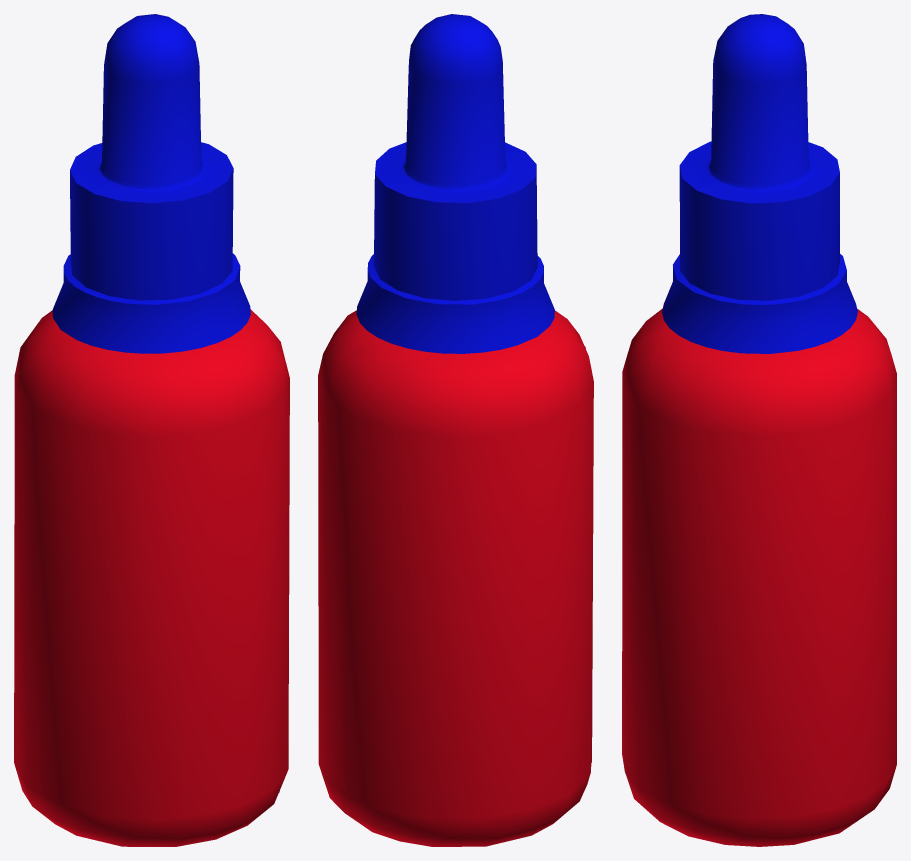
File: SM_BlessedOil_mesh_lod1.fbx
The picture shows the model from 3 angles, left to right: view 1: azimuth 30°, elevation 25°; view 2: azimuth 150°, elevation 25°; view 3: azimuth 270°, elevation 25°; orthographic projection.
Visible parts, largest first — view 1: lowbot.lod1, lowtop.lod1; view 2: lowbot.lod1, lowtop.lod1; view 3: lowbot.lod1, lowtop.lod1.
Part boxes in pixels (x1=…): lowbot.lod1: x1=14, y1=309, x2=289, y2=846; lowtop.lod1: x1=52, y1=14, x2=250, y2=353; lowbot.lod1: x1=318, y1=310, x2=593, y2=846; lowtop.lod1: x1=356, y1=14, x2=554, y2=353; lowbot.lod1: x1=622, y1=308, x2=896, y2=846; lowtop.lod1: x1=662, y1=14, x2=857, y2=353.
Bounding box in the file's own units: 11.56 × 36.42 × 11.56.
